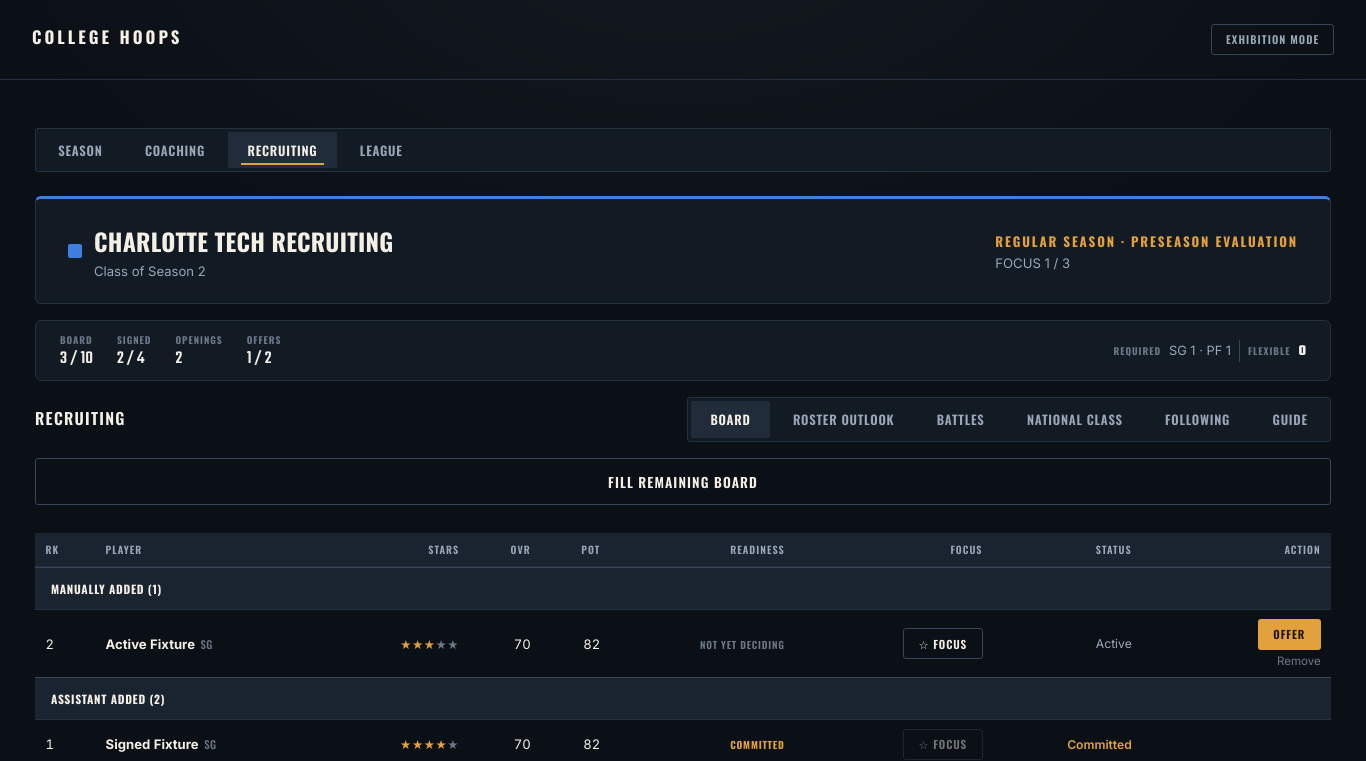
it: Recruiting Board › fills only unused capacity and preserves the existing manual plan
The image size is (1366, 761).
Step 1. Click the button "Fill Remaining Board" → (683, 482), box [35,458,1331,505]
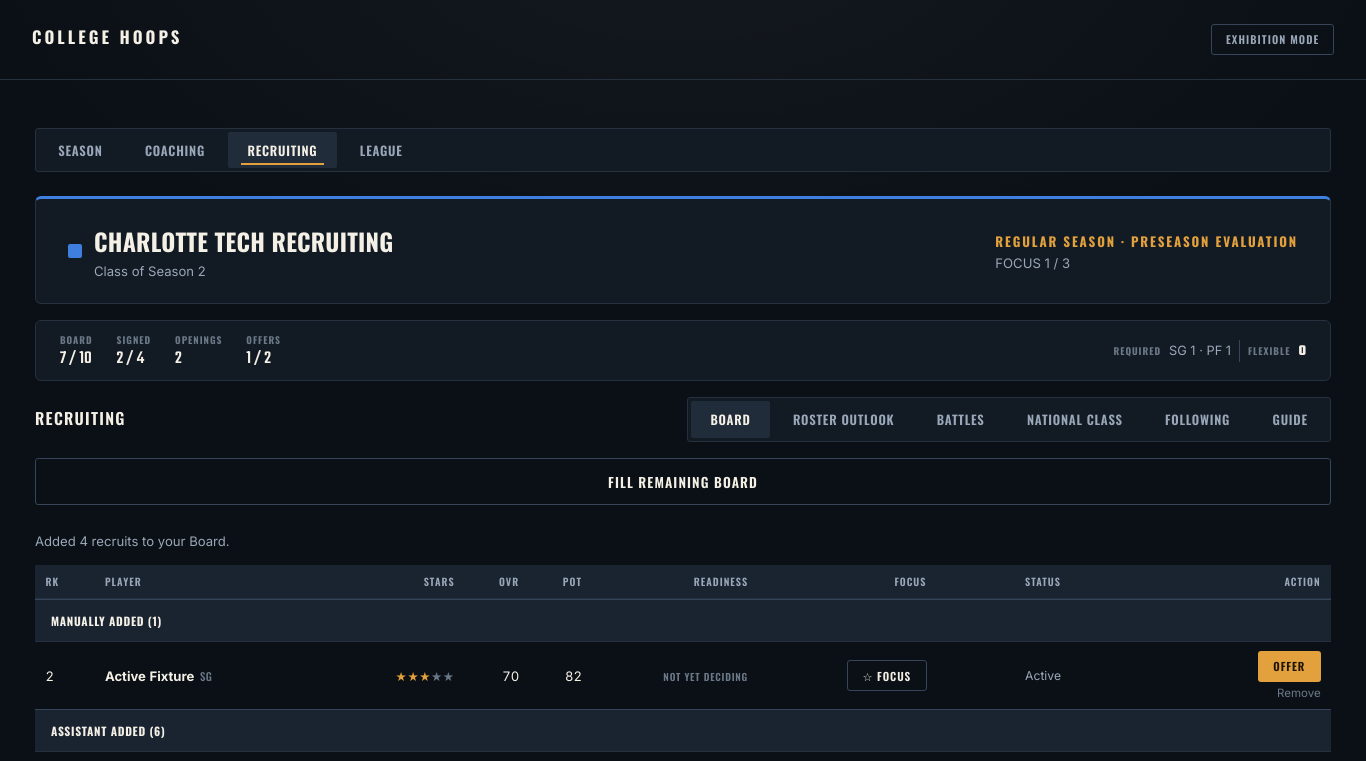
Result: the message reads "Added 4 recruits to your Board." at [35,533,230,549]
